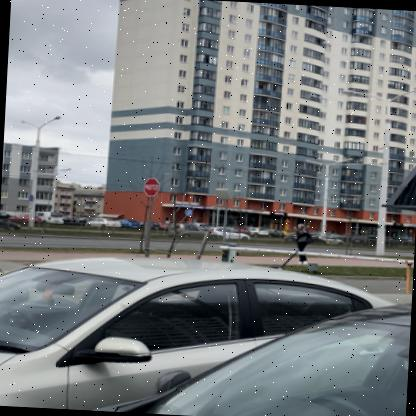stop: (145, 177, 162, 196)
